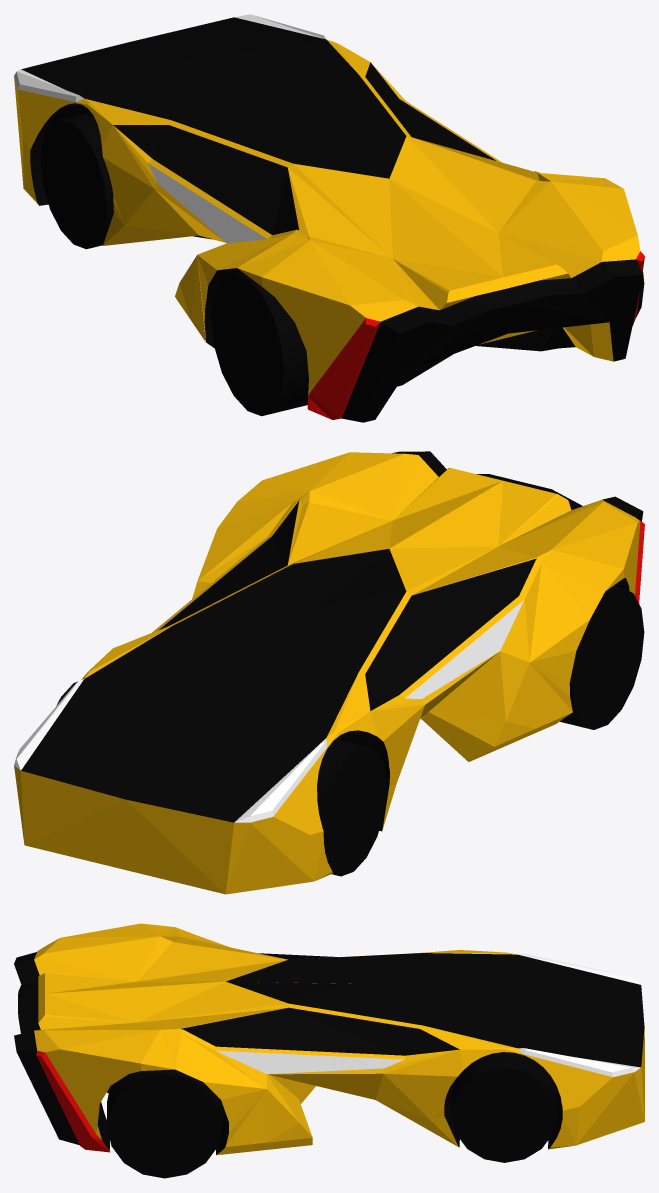
File: Heuer_FS1_coloured.gltf
3 renders of one model, top to bottom at view 1: azimuth 30°, elevation 25°; view 2: azimuth 150°, elevation 25°; view 3: azimuth 270°, elevation 25°, orthographic. The views are drawn at different scales.
Visible parts, largest first — view 1: Boole_1__2-Mat.2 (×2), Boole_1__2-Mat.6, Boole_1__2-Mat.4 (×5), Zylinder, Zylinder.1, Boole_1__2-Mat.5 (×2), Boole_1__2-Mat.7; view 2: Boole_1__2-Mat.2, Boole_1__2-Mat.6, Boole_1__2-Mat.4 (×3), Zylinder, Zylinder.1, Boole_1__2-Mat.5 (×2); view 3: Boole_1__2-Mat.2, Boole_1__2-Mat.6, Boole_1__2-Mat.4 (×4), Zylinder, Zylinder.1, Boole_1__2-Mat.5 (×2), Boole_1__2-Mat.7.
Part boxes in pixels (box(x1,y1,x2,y2)): Boole_1__2-Mat.2 (×2): box(14, 40, 640, 396); Boole_1__2-Mat.6: box(21, 17, 406, 178); Boole_1__2-Mat.4 (×5): box(30, 62, 643, 422); Zylinder: box(211, 272, 644, 416); Zylinder.1: box(40, 112, 113, 249); Boole_1__2-Mat.5 (×2): box(14, 14, 325, 243); Boole_1__2-Mat.7: box(307, 251, 644, 419); Boole_1__2-Mat.2: box(14, 452, 640, 894); Boole_1__2-Mat.6: box(21, 549, 406, 822); Boole_1__2-Mat.4 (×3): box(159, 451, 643, 831); Zylinder: box(560, 585, 644, 729); Zylinder.1: box(56, 681, 386, 876); Boole_1__2-Mat.5 (×2): box(14, 600, 523, 822); Boole_1__2-Mat.2: box(34, 923, 644, 1155); Boole_1__2-Mat.6: box(226, 953, 644, 1067); Boole_1__2-Mat.4 (×4): box(14, 952, 562, 1154); Zylinder: box(107, 1069, 222, 1178); Zylinder.1: box(451, 1052, 557, 1162); Boole_1__2-Mat.5 (×2): box(216, 953, 640, 1076); Boole_1__2-Mat.7: box(36, 948, 109, 1152).
Size of the model in its own units: 266 by 109 by 491.
